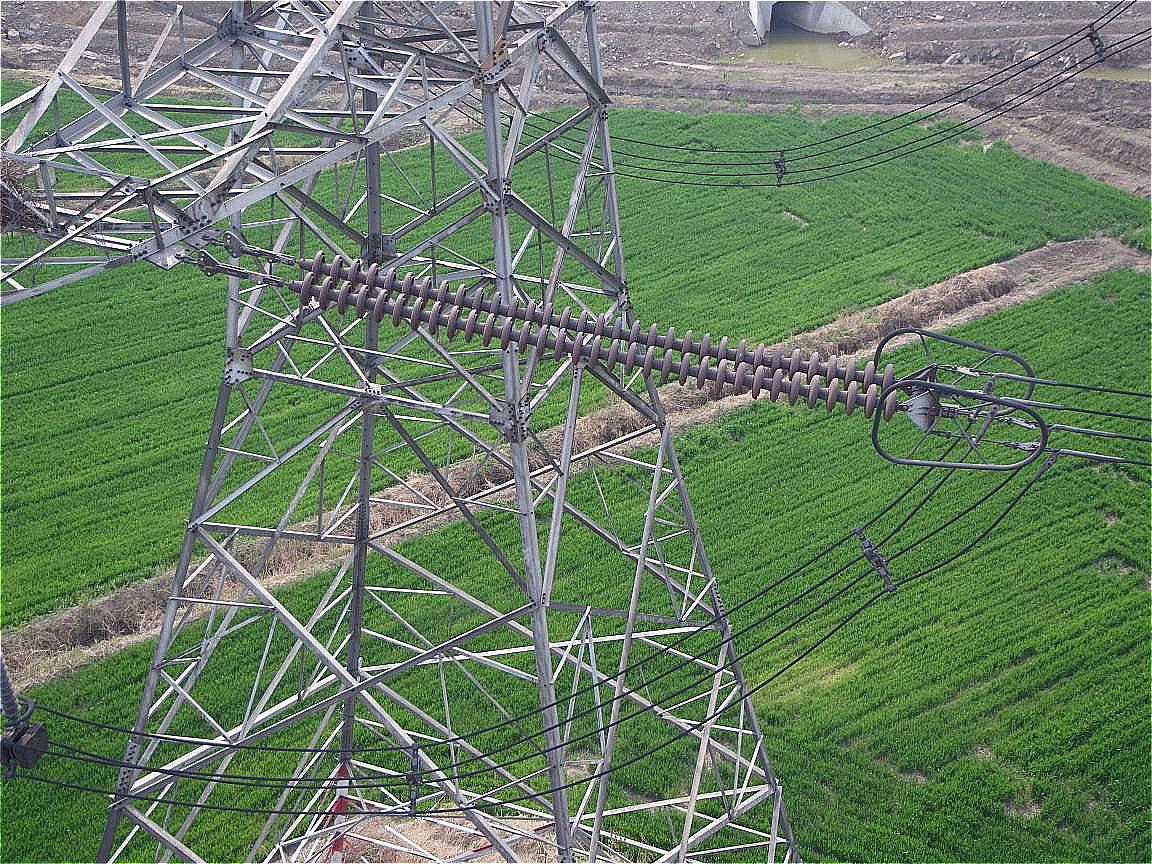insultor1: (298, 250, 899, 421)
